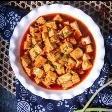mapodoufu: (18, 15, 97, 89)
